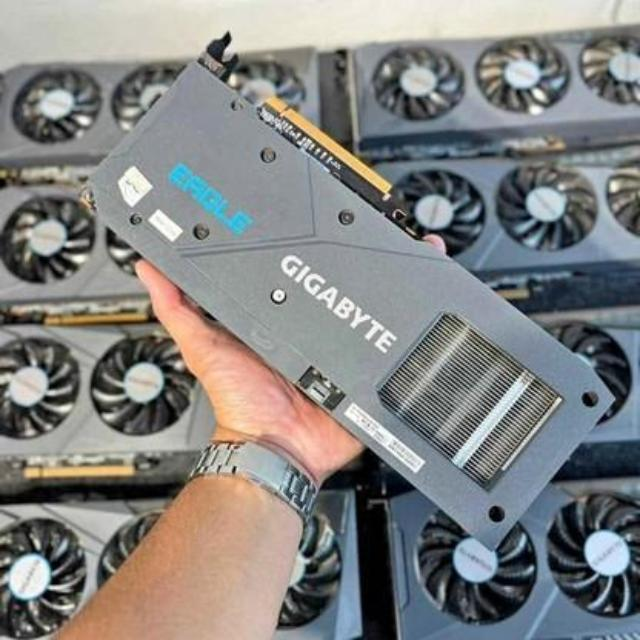GPU: (91, 39, 614, 541)
